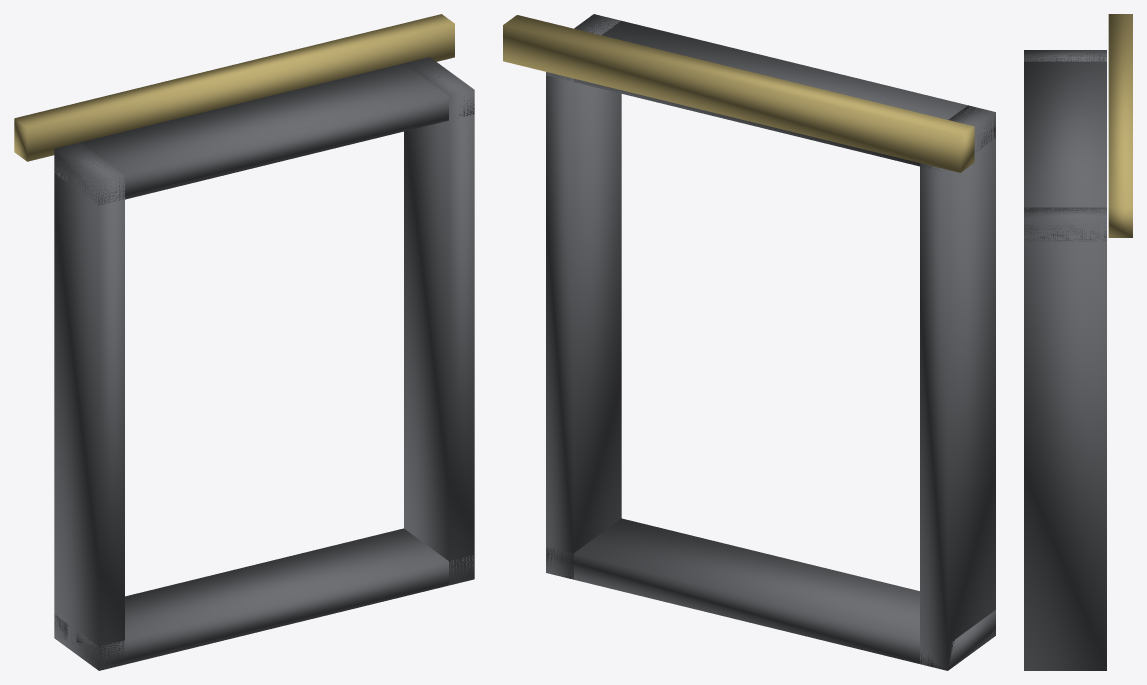
File: egress_window_motel_w100_h130_s55_d24.glb
3 views of the same model, side by side, from view 1: azimuth 30°, elevation 25°; view 2: azimuth 150°, elevation 25°; view 3: azimuth 270°, elevation 25° (orthographic). The views are drawn at different scales.
Parts seen in each view (by area): view 1: world; view 2: world; view 3: world.
Boxes of the visible parts, x1,y1,x2,y2 form: world: (14,14,474,670); world: (503,14,995,670); world: (1024,14,1132,670).
Size of the model in its own units: 1.32 by 1.52 by 0.315.
